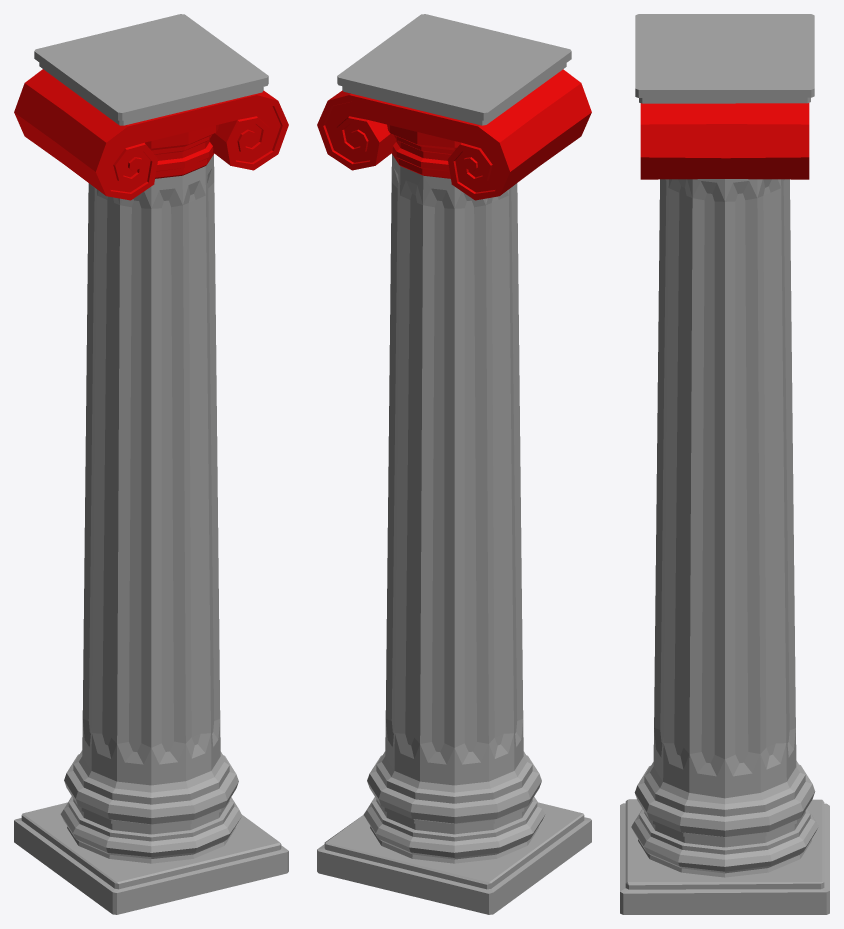
The model's file is SM_Bld_Pillar_03.fbx.
The picture shows the model from 3 angles, left to right: view 1: azimuth 30°, elevation 25°; view 2: azimuth 150°, elevation 25°; view 3: azimuth 270°, elevation 25°; orthographic projection. The views are drawn at different scales.
Visible parts, largest first — view 1: SM_Bld_Pillar_03; view 2: SM_Bld_Pillar_03; view 3: SM_Bld_Pillar_03.
Boxes of the visible parts, x1=… form: SM_Bld_Pillar_03: x1=14, y1=14, x2=288, y2=914; SM_Bld_Pillar_03: x1=317, y1=14, x2=591, y2=914; SM_Bld_Pillar_03: x1=620, y1=14, x2=829, y2=914.
Bounding box in the file's own units: 76.75 × 300 × 69.73.
